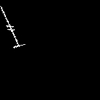treble_crochet: (1, 7, 19, 47)
